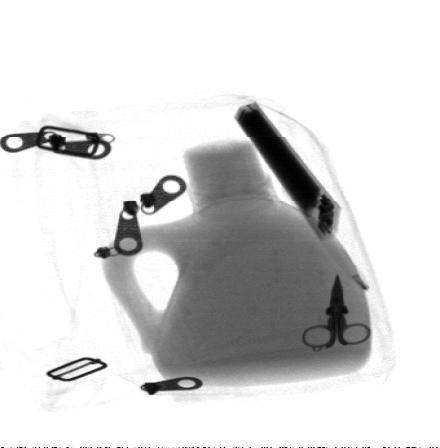Powerbank: (224, 97, 345, 244)
Scissors: (300, 273, 373, 352)
